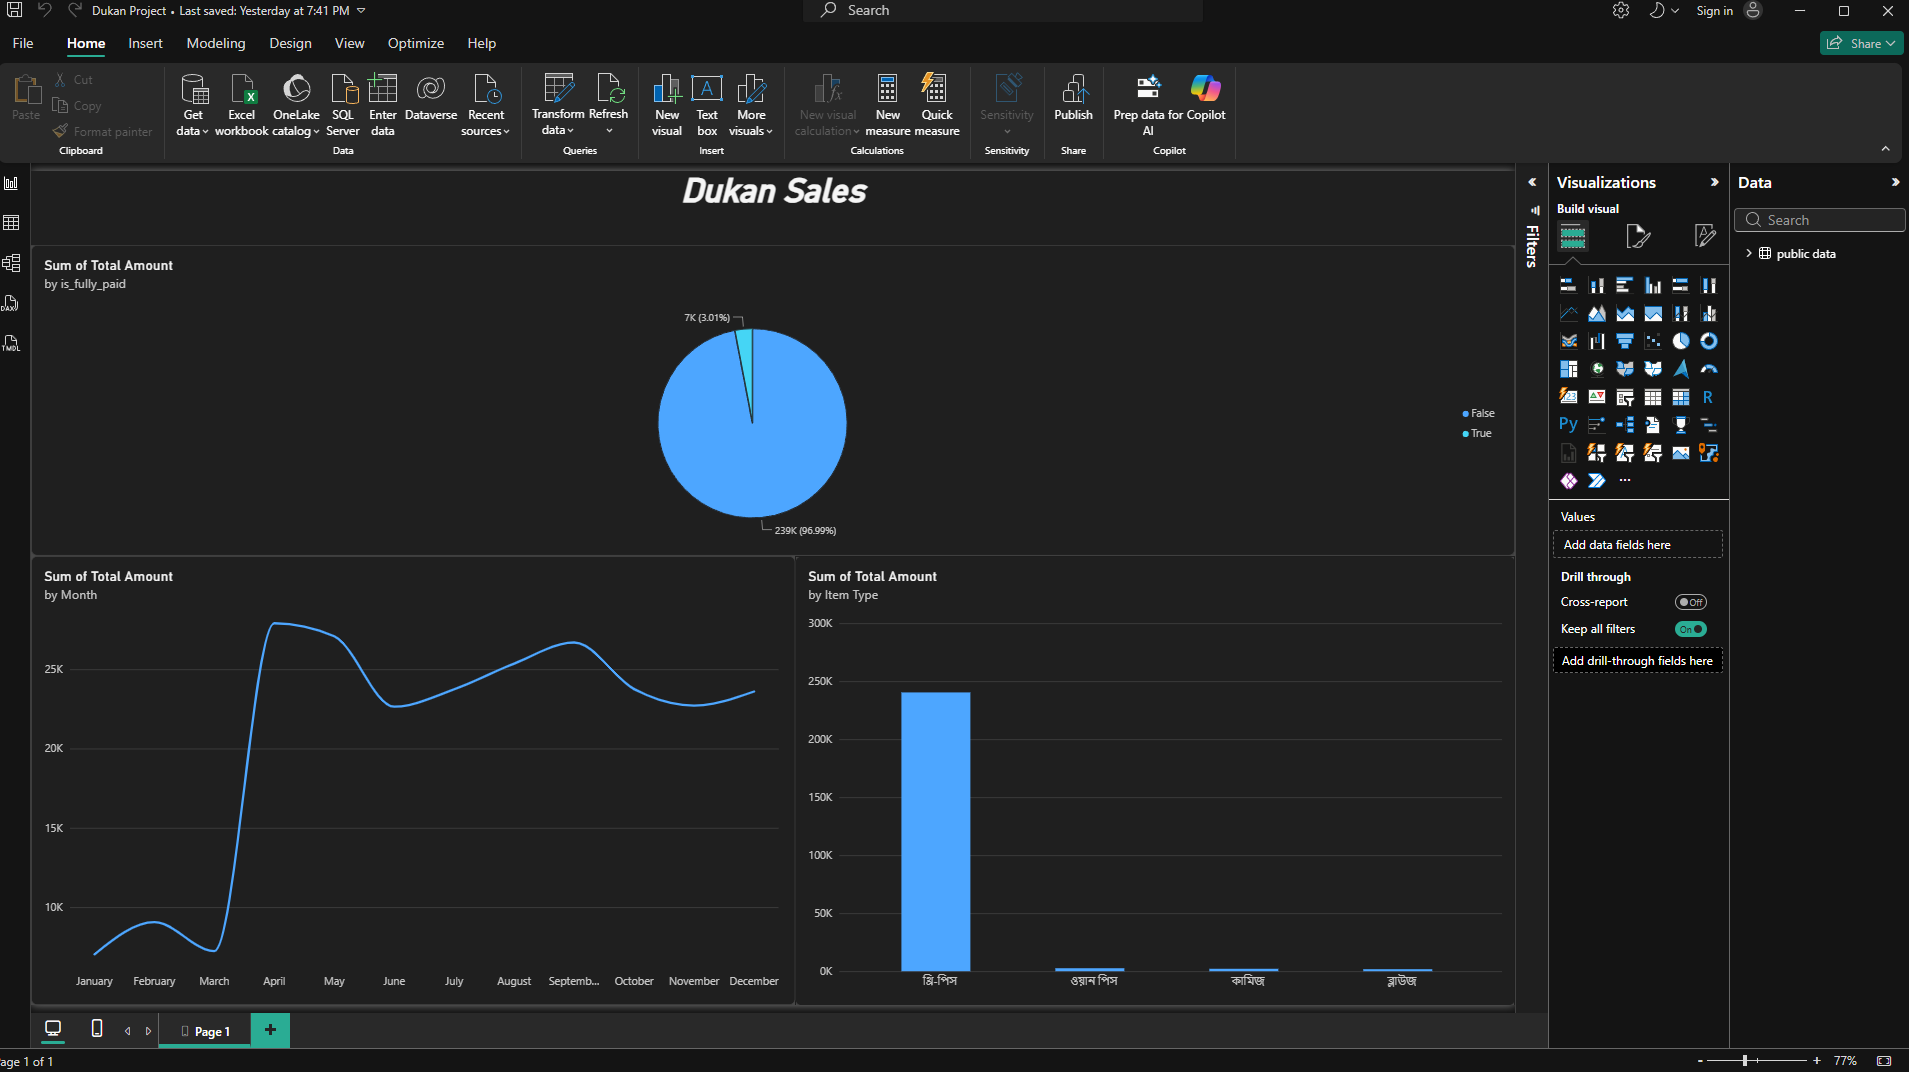

Layout of this report page (visuals, bound fields, positions):
{"tool":"powerbi","page":{"name":"Page 1","canvas":[1920,1080],"ordinal":0},"visuals":[{"type":"columnChart","fields":{"Category":["public data.Item Type"],"Y":["Sum(public data.Total Amount)"]},"box":[988.5,498.1,931.5,582.2],"z":0},{"type":"lineChart","fields":{"Category":["public data.Date.Variation.Date Hierarchy.Month"],"Y":["Sum(public data.Total Amount)"]},"box":[0,498.6,988.6,581.4],"z":1000},{"type":"pieChart","fields":{"Category":["public data.is_fully_paid"],"Y":["Sum(public data.Total Amount)"]},"box":[0,95.7,1920,402.4],"z":2000},{"type":"textbox","box":[0,0,1920,95.7],"z":4000}]}

Visuals, with their boxes on the page's 1920x1080 design canvas (x1, y1, x2, y2). These are canvas units, not pixel positions in the 1909x1072 screenshot, which may show the page scaled, cropped or inside an application window:
columnChart - public data.Item Type x Sum(public data.Total Amount): <bbox>988, 498, 1920, 1080</bbox>
lineChart - public data.Date.Variation.Date Hierarchy.Month x Sum(public data.Total Amount): <bbox>0, 499, 989, 1080</bbox>
pieChart - public data.is_fully_paid x Sum(public data.Total Amount): <bbox>0, 96, 1920, 498</bbox>
textbox: <bbox>0, 0, 1920, 96</bbox>
